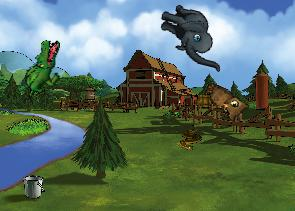crocodile: (24, 39, 61, 99)
elephant: (151, 1, 232, 72)
owl: (197, 81, 251, 125)
